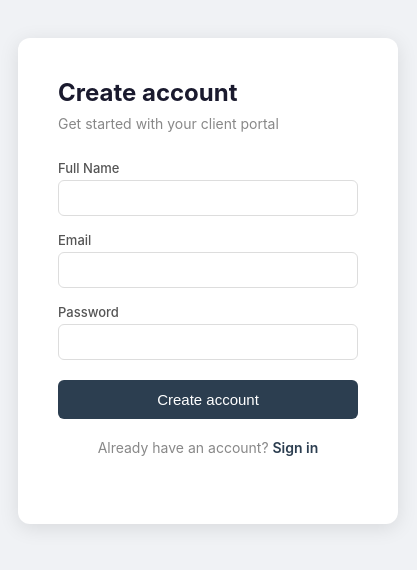
Scenario: Register › shows inline error on 409 conflict
Step 1. Type "Jan Novak" into the field labelled "Full Name" → (208, 198), box left=58, top=180, right=358, bottom=216
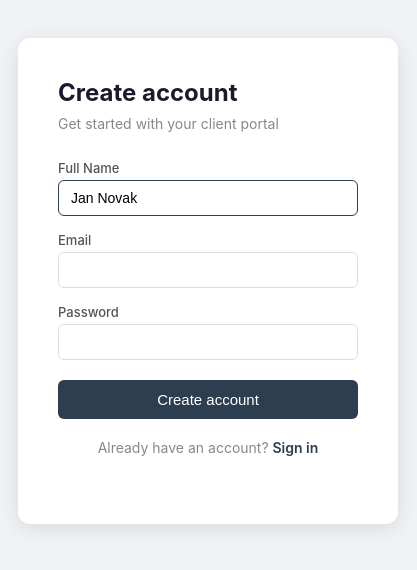
Step 2. Type "jan@example.com" into the field labelled "Email" → (208, 270), box left=58, top=252, right=358, bottom=288
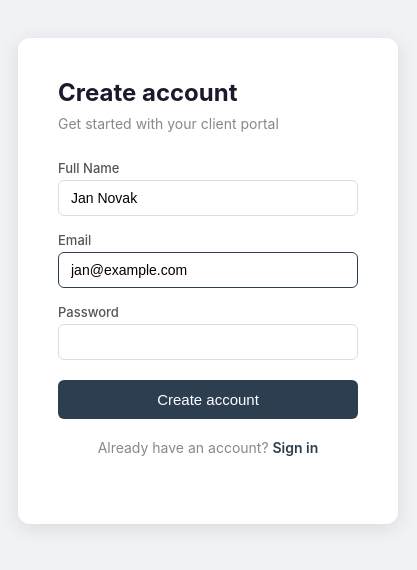
Step 3. Type "password123" into the password field labelled "Password" → (208, 342), box left=58, top=324, right=358, bottom=360
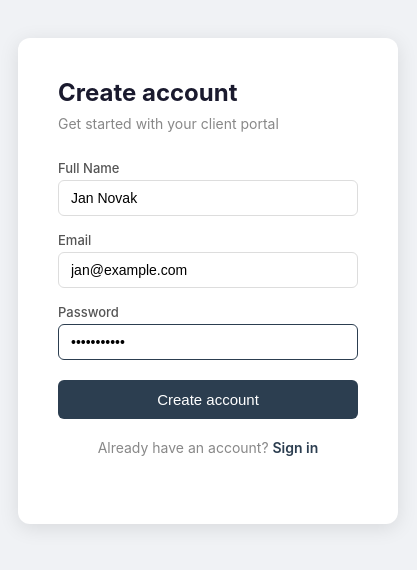
Step 4. Click the button "Create account" → (208, 400), box left=58, top=380, right=358, bottom=419
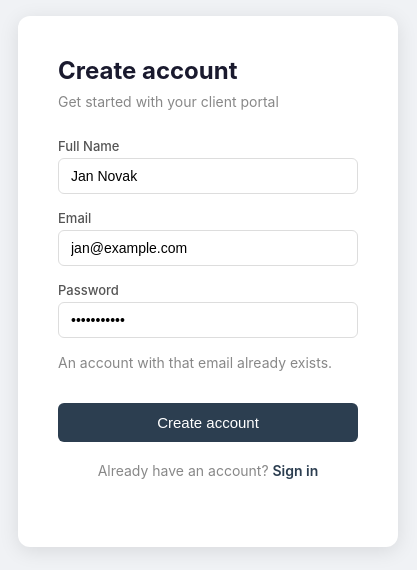
Expected: the text "An account with that email already exists." is shown, left=58, top=354, right=358, bottom=370
